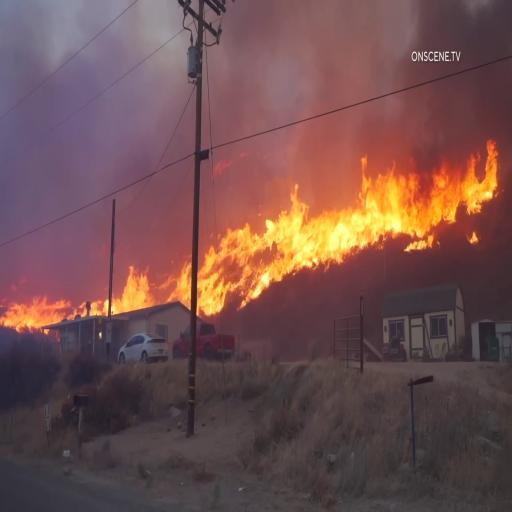fire: (196, 188, 338, 324), (342, 160, 498, 252), (9, 272, 139, 326)
